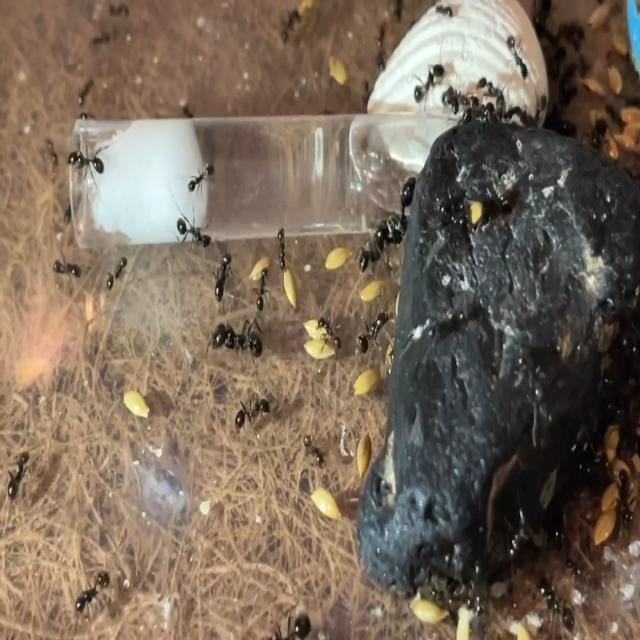Minor: (170, 192, 212, 250), (76, 569, 110, 617), (67, 140, 109, 178), (234, 390, 270, 433), (214, 246, 234, 302), (187, 158, 216, 196), (253, 261, 273, 313), (105, 251, 129, 293), (302, 431, 326, 470), (278, 227, 287, 273)
Soldier: (206, 318, 264, 366)
